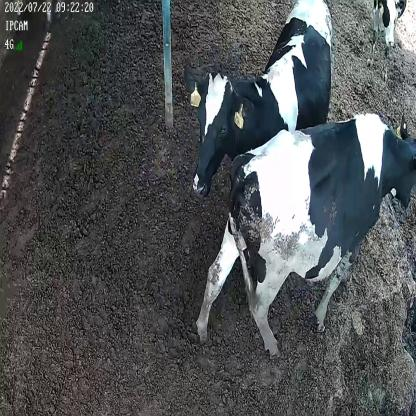cow: (198, 109, 416, 355), (184, 0, 334, 203)
